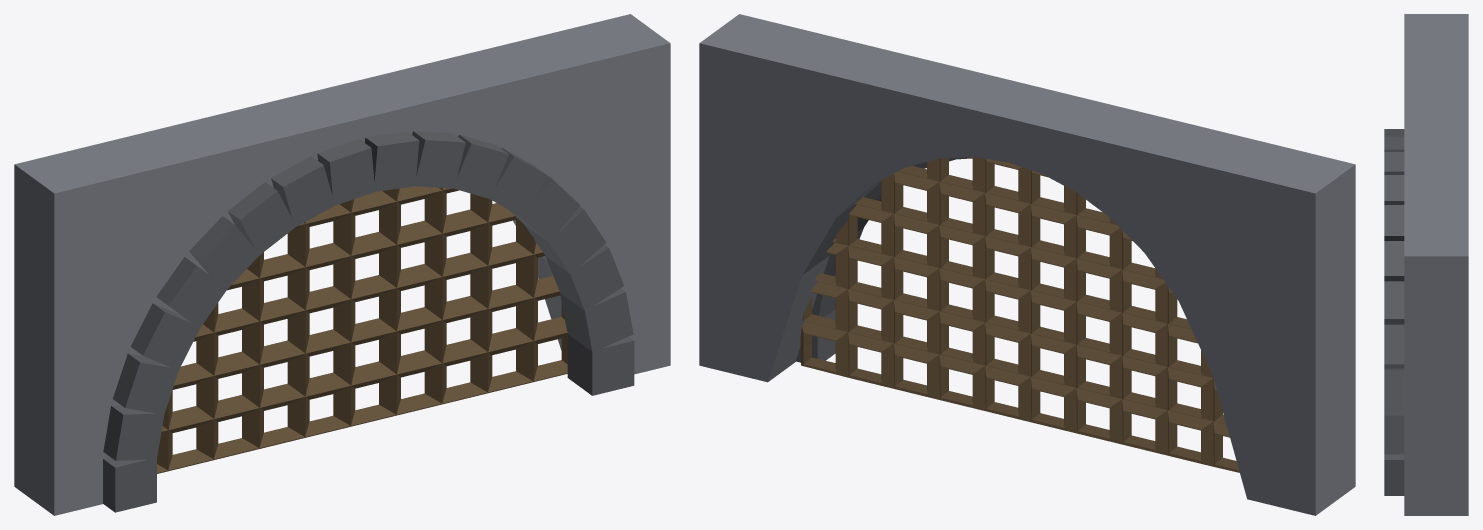
The model's file is Castle.glb.
3 views of the same model, side by side, from view 1: azimuth 30°, elevation 25°; view 2: azimuth 150°, elevation 25°; view 3: azimuth 270°, elevation 25° (orthographic). The views are drawn at different scales.
Parts seen in each view (by area): view 1: Cube, Grid, Cube.001; view 2: Cube, Grid, Cube.001; view 3: Cube, Cube.001.
Part boxes in pixels (<box>): Cube: <box>14,14,670,515</box>; Grid: <box>157,186,567,473</box>; Cube.001: <box>103,131,634,512</box>; Cube: <box>699,14,1355,515</box>; Grid: <box>800,157,1239,472</box>; Cube.001: <box>796,157,970,362</box>; Cube: <box>1404,14,1468,515</box>; Cube.001: <box>1384,129,1404,495</box>.
Bounding box in the file's own units: 4 × 2 × 0.588.
